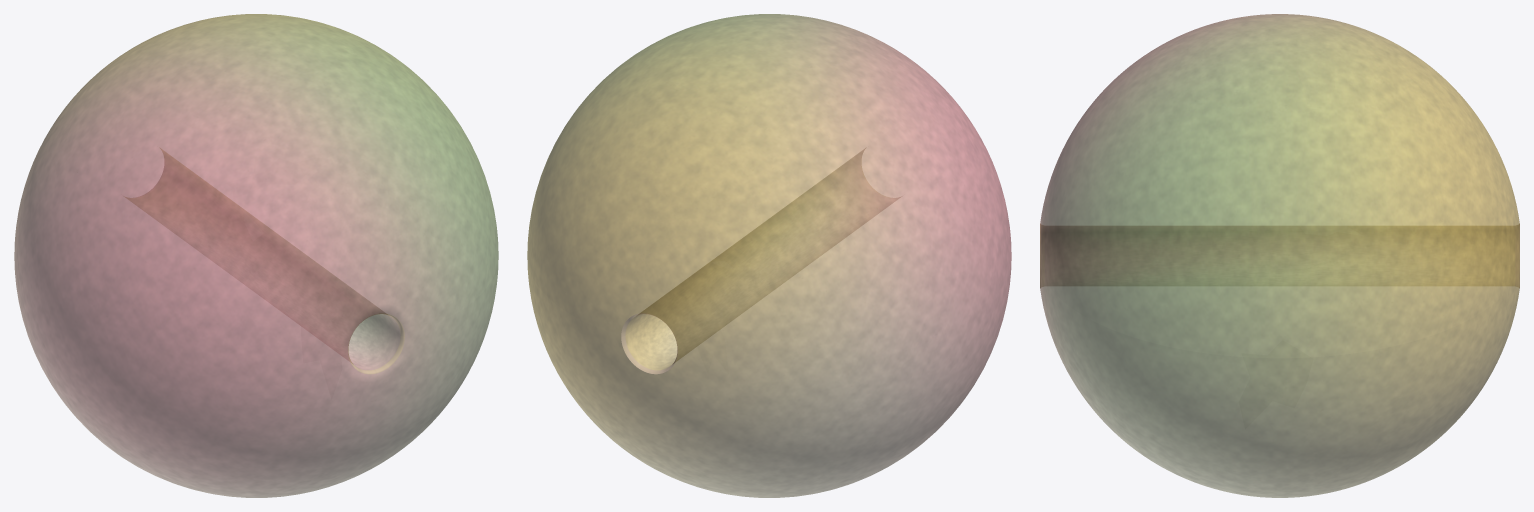
File: multicolor-tourmaline.glb
3 renders of one model, left to right at view 1: azimuth 30°, elevation 25°; view 2: azimuth 150°, elevation 25°; view 3: azimuth 270°, elevation 25°, orthographic.
Parts seen in each view (by area): view 1: multicolor-tourmaline.001; view 2: multicolor-tourmaline.001; view 3: multicolor-tourmaline.001.
Boxes of the visible parts, x1=… form: multicolor-tourmaline.001: x1=14, y1=14, x2=498, y2=497; multicolor-tourmaline.001: x1=527, y1=14, x2=1011, y2=497; multicolor-tourmaline.001: x1=1040, y1=14, x2=1519, y2=497.
Size of the model in its own units: 0.008 by 0.008 by 0.00793.
Materials: 2 (1 with a texture image).
